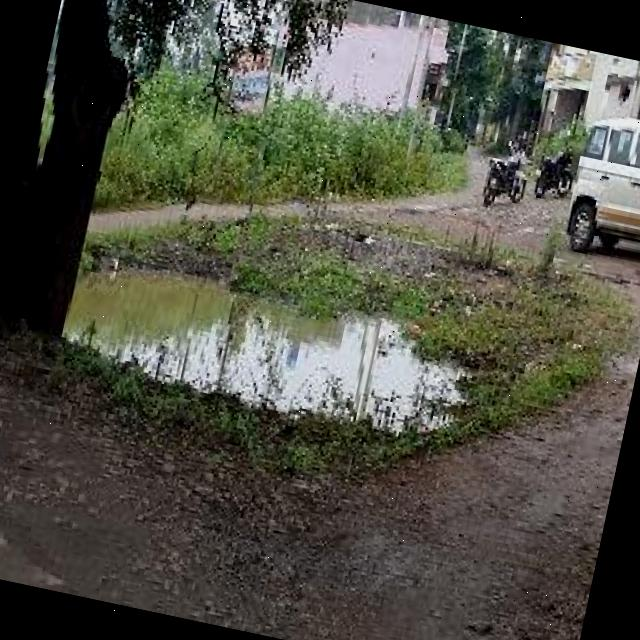stagnation: (62, 238, 472, 451)
